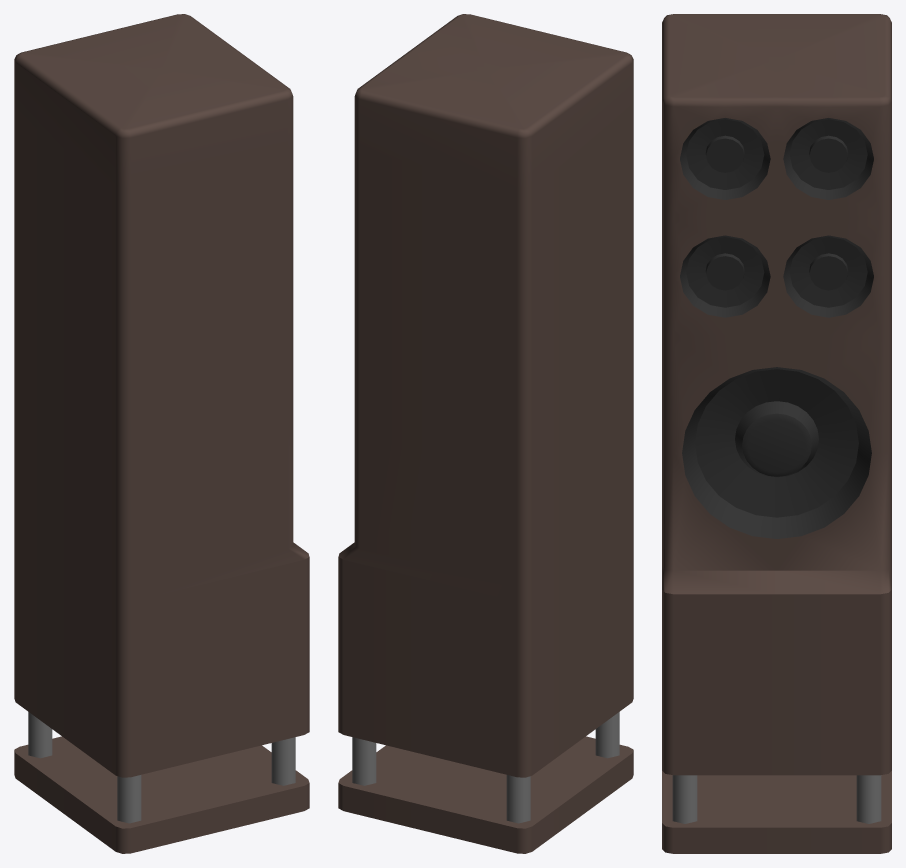
File: Speaker.fbx
3 renders of one model, left to right at view 1: azimuth 30°, elevation 25°; view 2: azimuth 150°, elevation 25°; view 3: azimuth 270°, elevation 25°, orthographic. The views are drawn at different scales.
Parts seen in each view (by area): view 1: Speaker; view 2: Speaker; view 3: Speaker.
Part boxes in pixels (x1,y1,x2,y2): Speaker: [14, 14, 309, 853]; Speaker: [338, 14, 633, 853]; Speaker: [662, 14, 891, 853].
Size of the model in its own units: 32.47 by 116 by 32.47.
